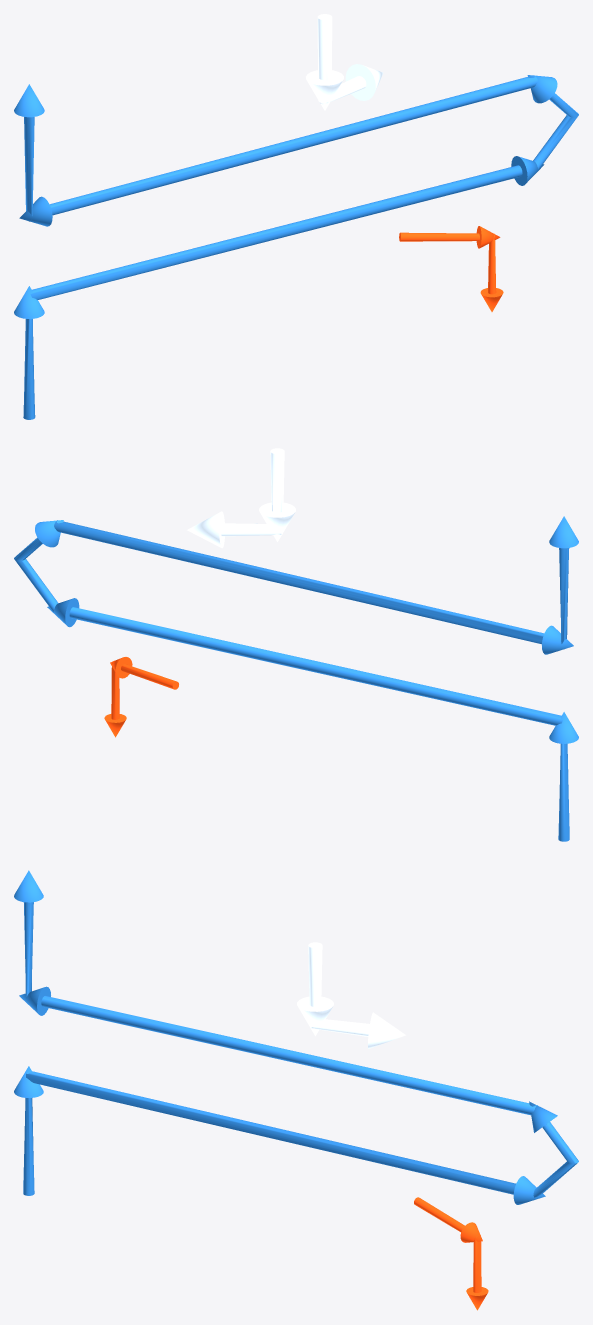
The model's file is preheater_flow.glb.
The picture shows the model from 3 angles, top to bottom: view 1: azimuth 30°, elevation 25°; view 2: azimuth 150°, elevation 25°; view 3: azimuth 330°, elevation 25°; orthographic projection. The views are drawn at different scales.
Parts seen in each view (by area): view 1: feedwater, steam, condensate_drain; view 2: feedwater, steam, condensate_drain; view 3: feedwater, steam, condensate_drain.
Part boxes in pixels (x1=…): feedwater: x1=14, y1=75, x2=578, y2=419; steam: x1=306, y1=14, x2=383, y2=110; condensate_drain: x1=399, y1=226, x2=503, y2=311; feedwater: x1=14, y1=516, x2=578, y2=841; steam: x1=187, y1=448, x2=295, y2=548; condensate_drain: x1=104, y1=657, x2=178, y2=737; feedwater: x1=14, y1=870, x2=578, y2=1204; steam: x1=297, y1=942, x2=405, y2=1048; condensate_drain: x1=414, y1=1197, x2=488, y2=1310.
Bounding box in the file's own units: 2.22 × 1.27 × 0.1976.
